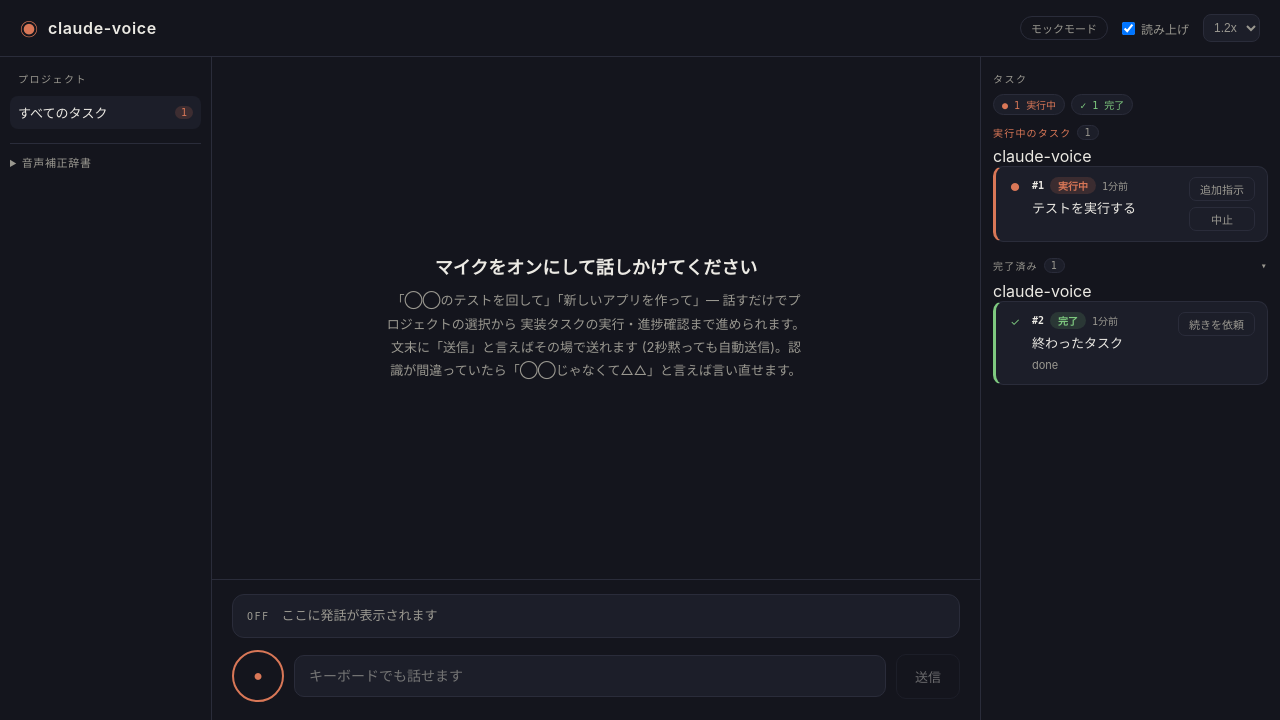
Test: App append instruction UI › does not send empty follow-ups
expect the text "テストを実行する" is shown: met, box [1032,198,1136,218]
Click the button "追加指示" at (1222, 189), box [1189,177,1255,201]
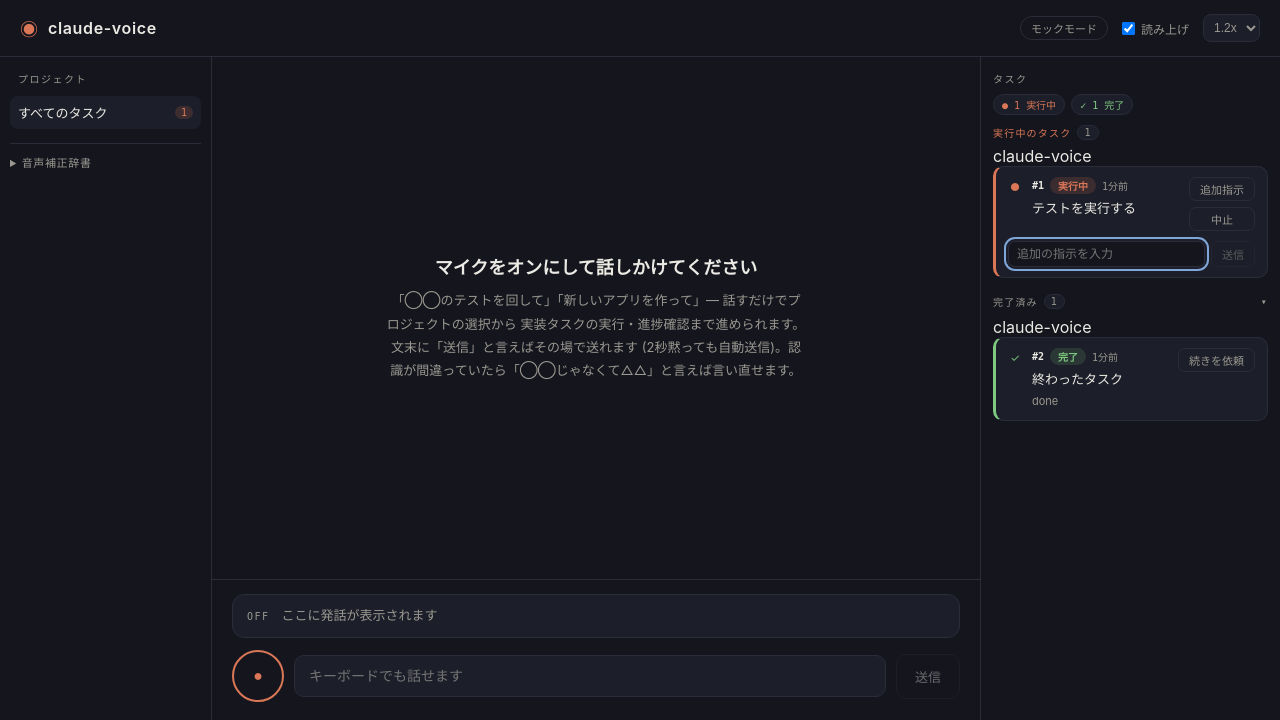
expect the button with aria-label "追加指示を送信" is disabled: met, box [1211,241,1255,267]
